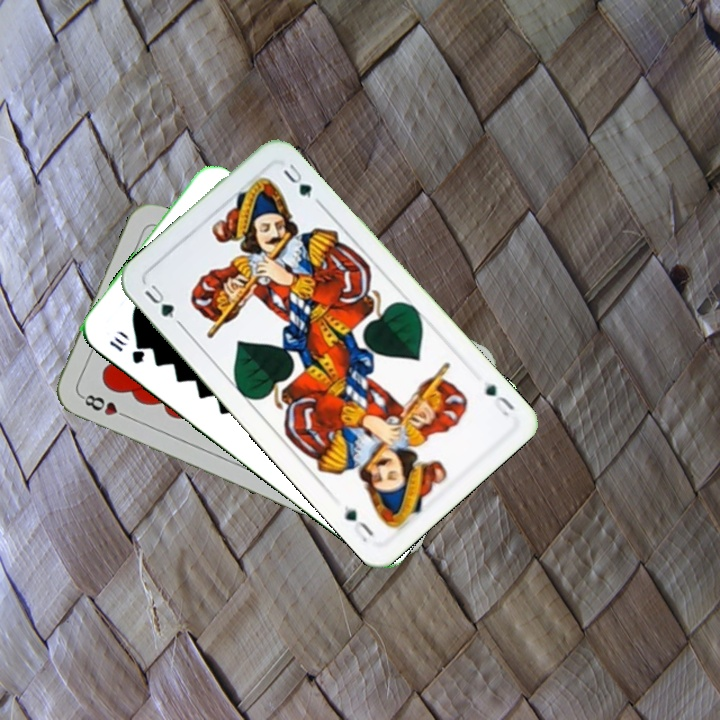G10: (105, 331, 148, 367)
GU: (140, 279, 177, 322), (480, 380, 517, 419)
H8: (77, 390, 133, 421)
